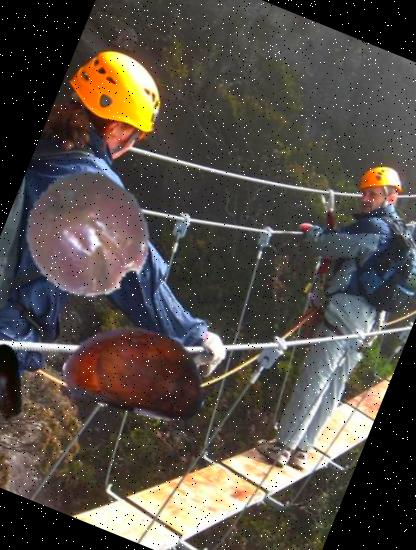Chestnut: (42, 276, 232, 466)
Eggplant: (0, 330, 56, 434)
Passion: (2, 150, 173, 321)
